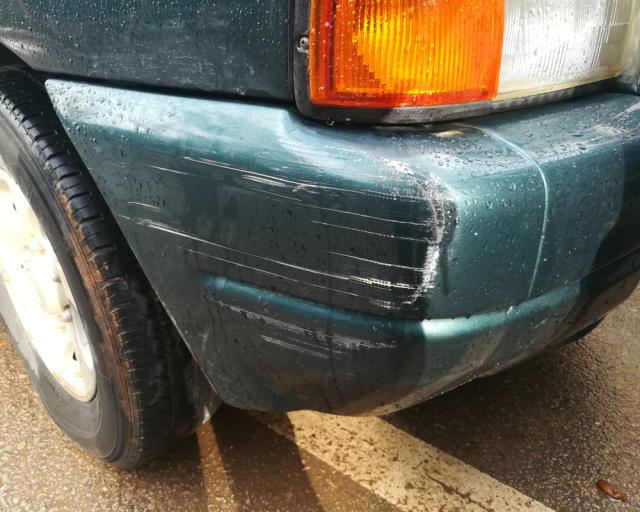scratch: (118, 136, 464, 368)
